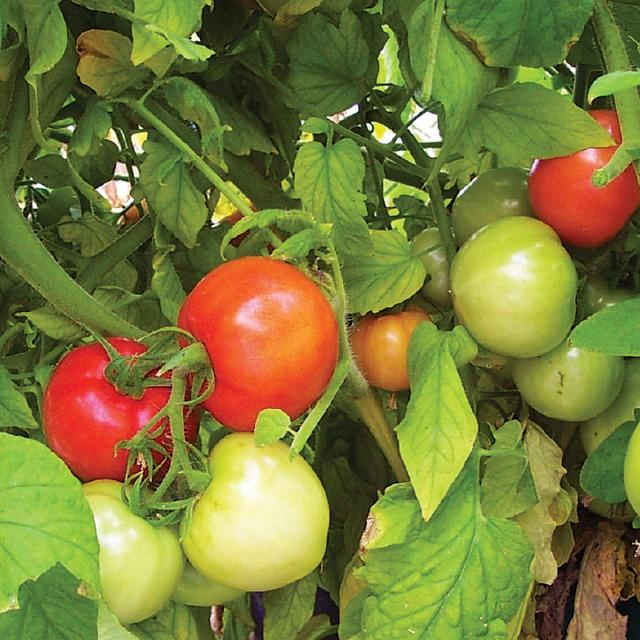kirmizi: (44, 327, 185, 478)
yesil: (194, 439, 346, 601), (454, 218, 582, 380)
